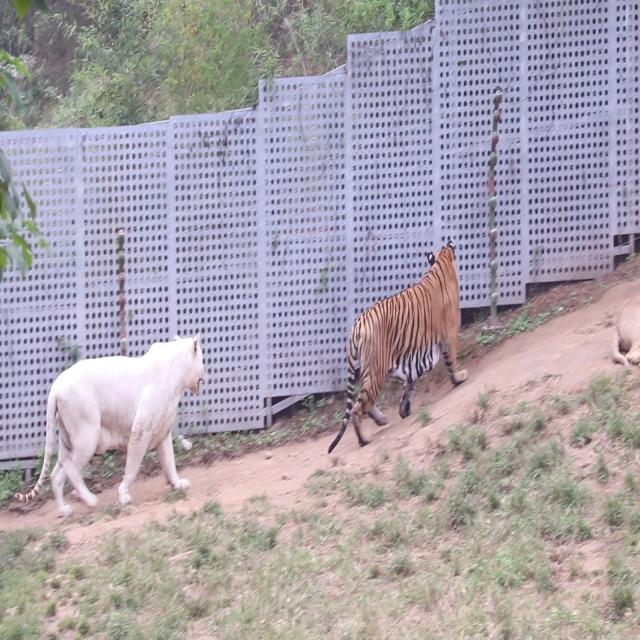Tiger: (328, 231, 487, 474)
